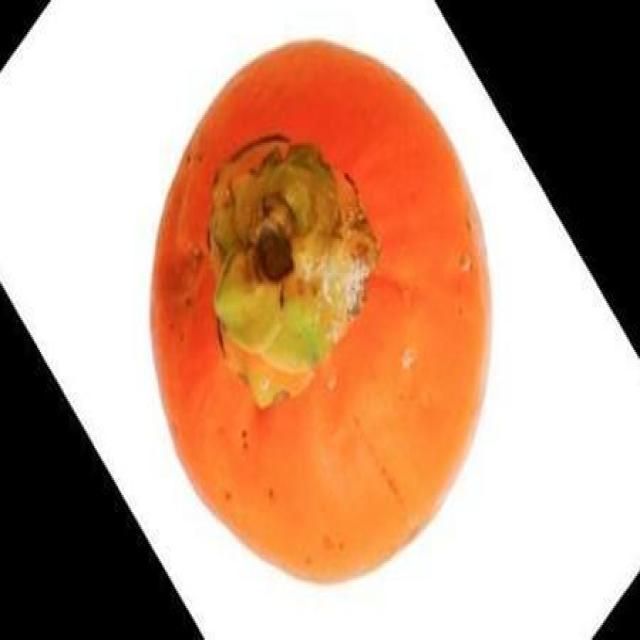good: (142, 36, 496, 587)
